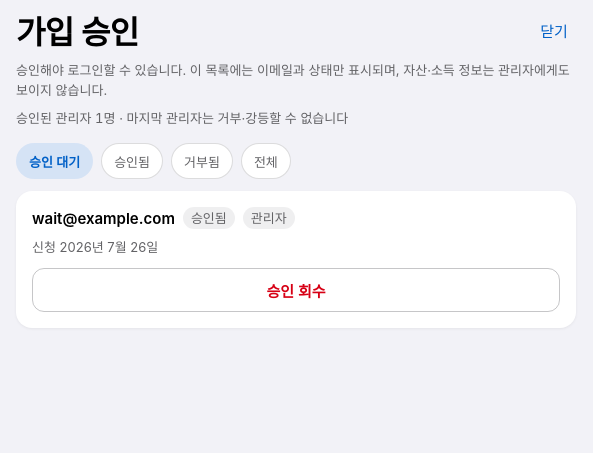
Test: 승인 · 거부 › 409 LAST_ADMIN 은 왜 막혔는지 설명한다
Click the button with aria-label "wait@example.com 승인 회수" at {"x": 296, "y": 290}, box [32, 268, 560, 312]
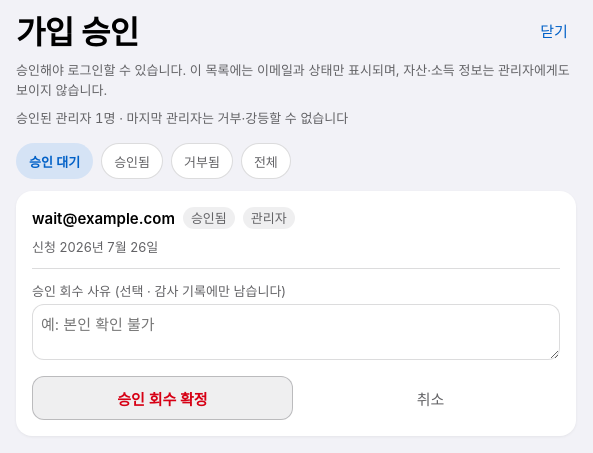
Click the button with aria-label "wait@example.com 승인 회수 확정" at {"x": 162, "y": 398}, box [32, 376, 293, 420]
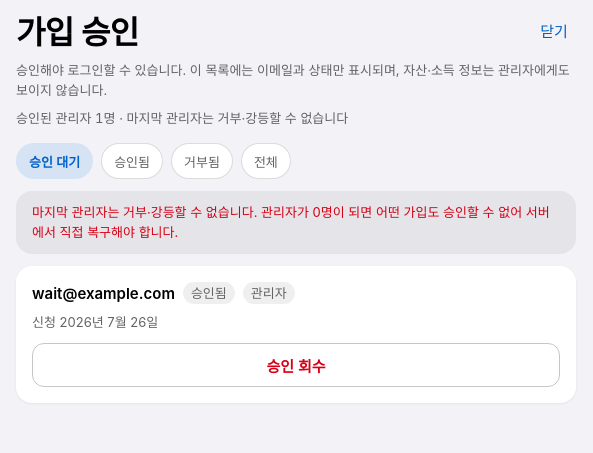
Expected: the text "승인된 관리자 1명 · 마지막 관리자는 거부·강등할 수 없습니다" is shown, [16, 110, 348, 126]
Now the message shows "마지막 관리자", box [32, 204, 550, 240]
Now the message shows "서버에서 직접 복구", box [32, 204, 550, 240]
